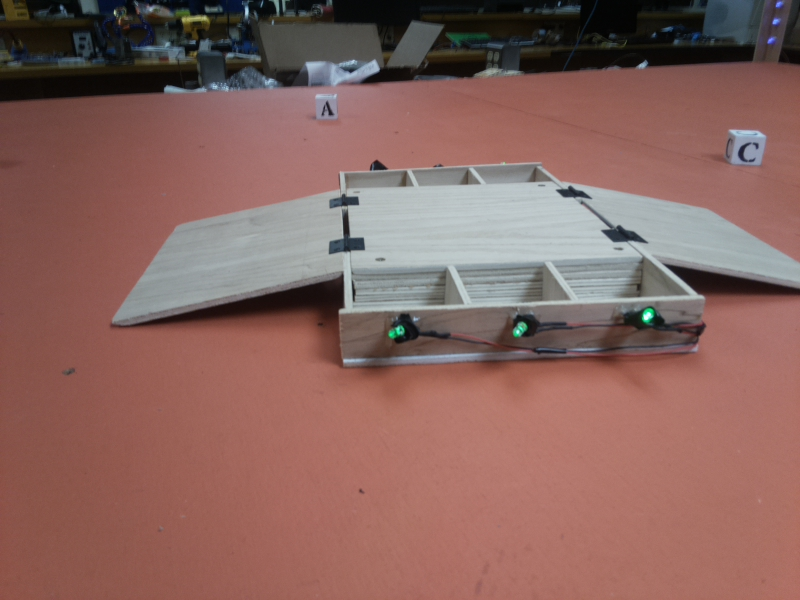blockA: (315, 92, 341, 123)
blockC: (720, 127, 768, 166)
corner: (749, 1, 787, 65)
side: (340, 257, 707, 368)
slope: (112, 178, 341, 332), (563, 182, 800, 289)
